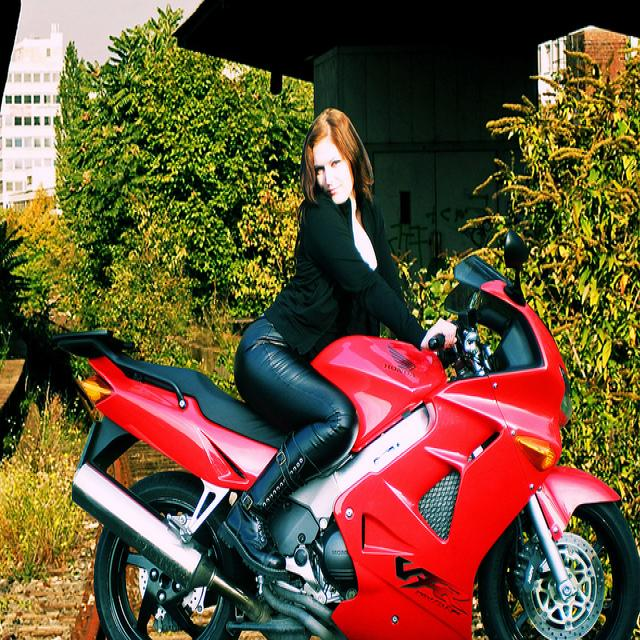motor: (51, 217, 640, 633)
